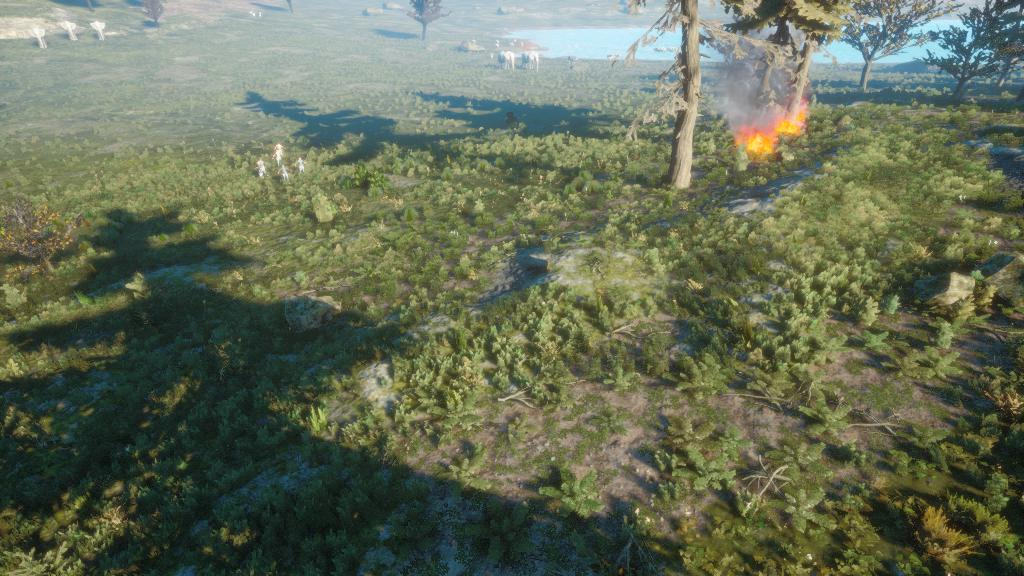Fire: (730, 124, 784, 159), (779, 98, 807, 138)
human: (246, 141, 311, 186)
smoke: (709, 50, 783, 116)
